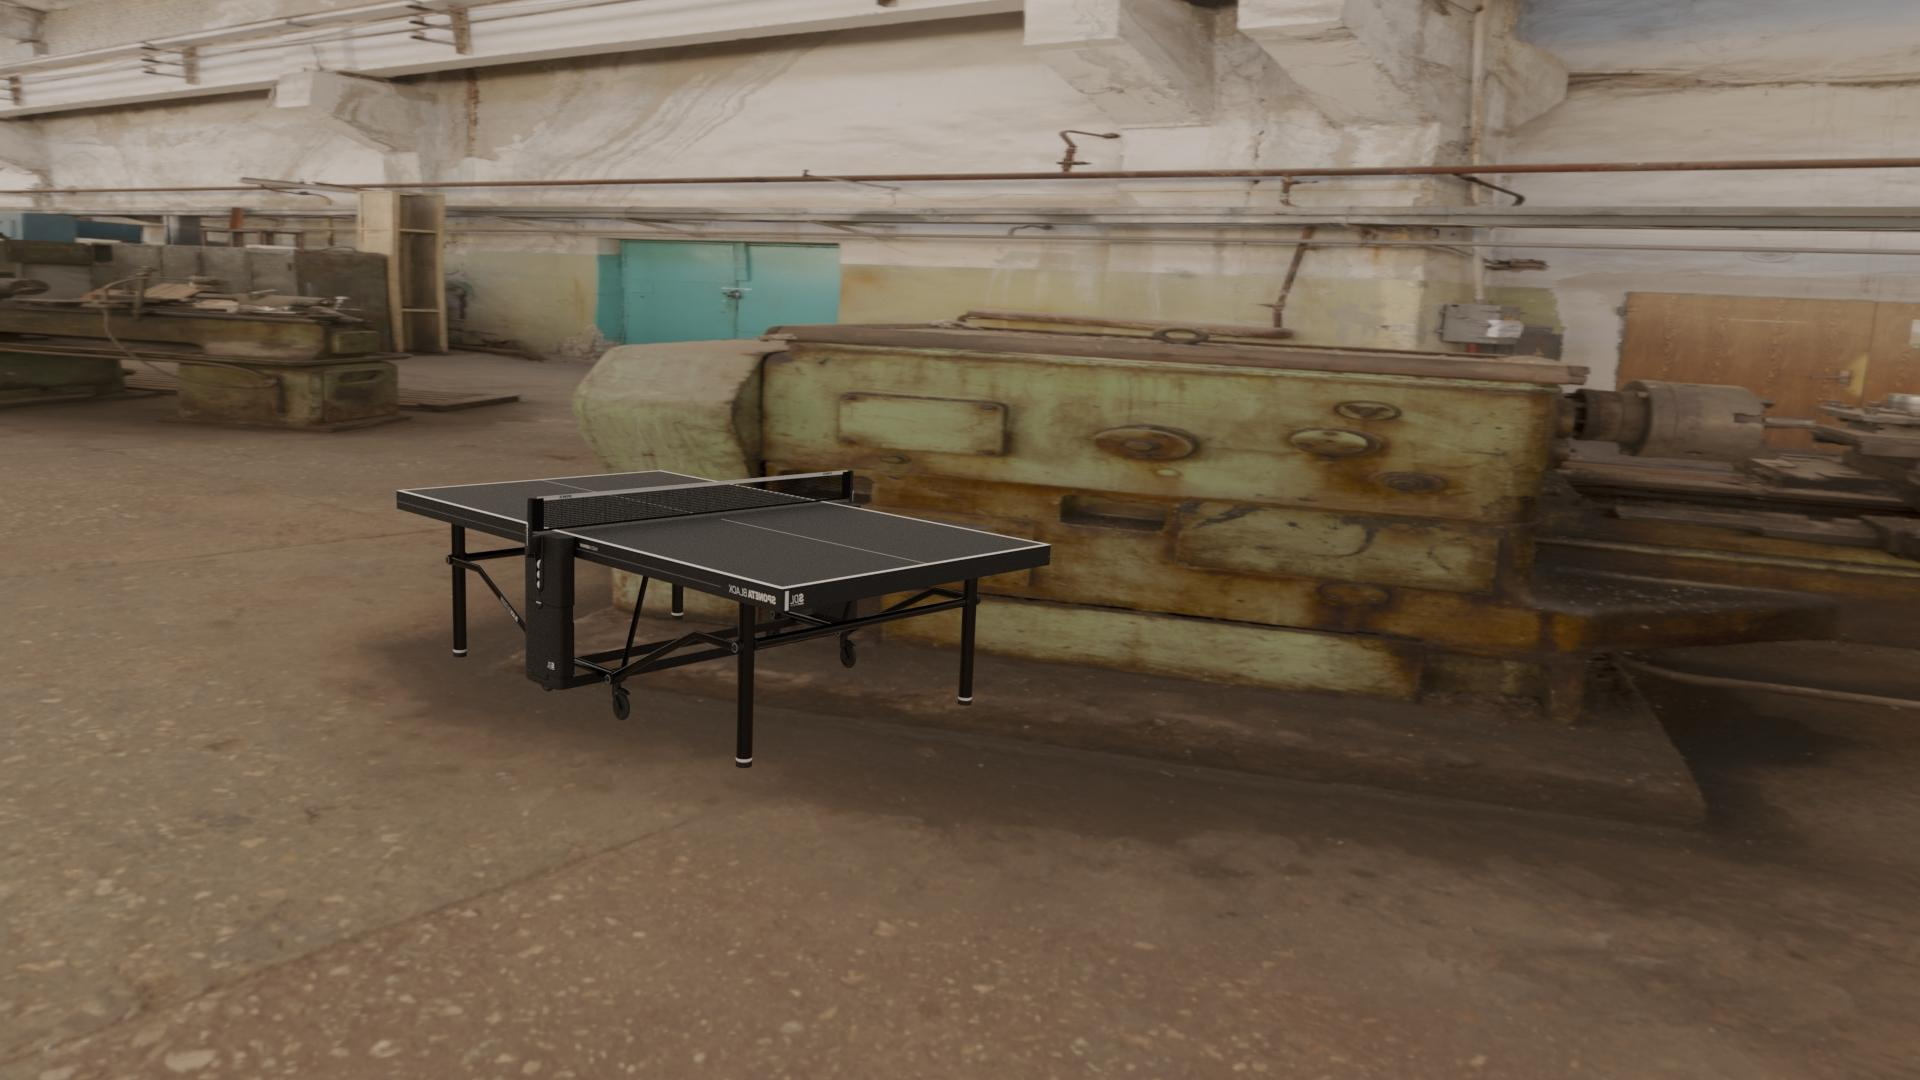table: (402, 471, 1044, 587)
